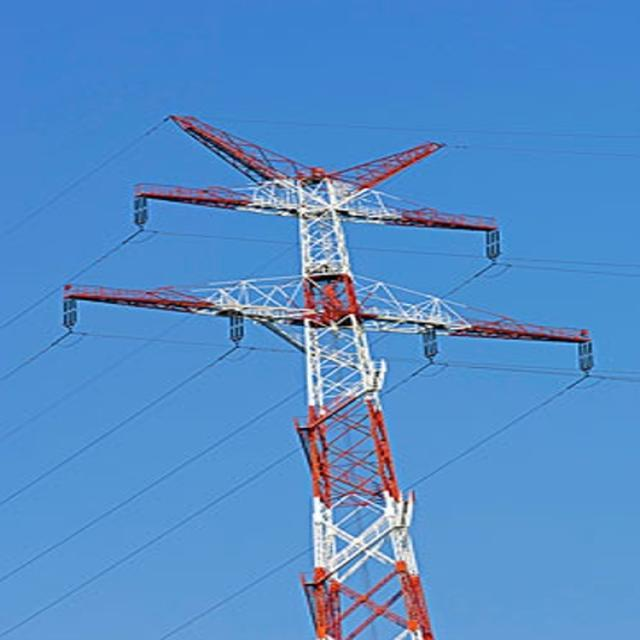non-critical vegetation: (59, 89, 580, 588)
